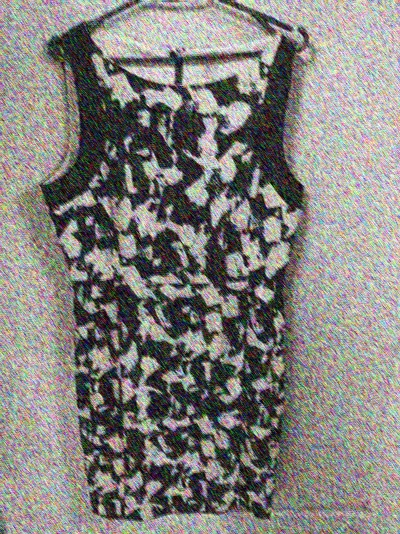Dress: (9, 10, 315, 528)
